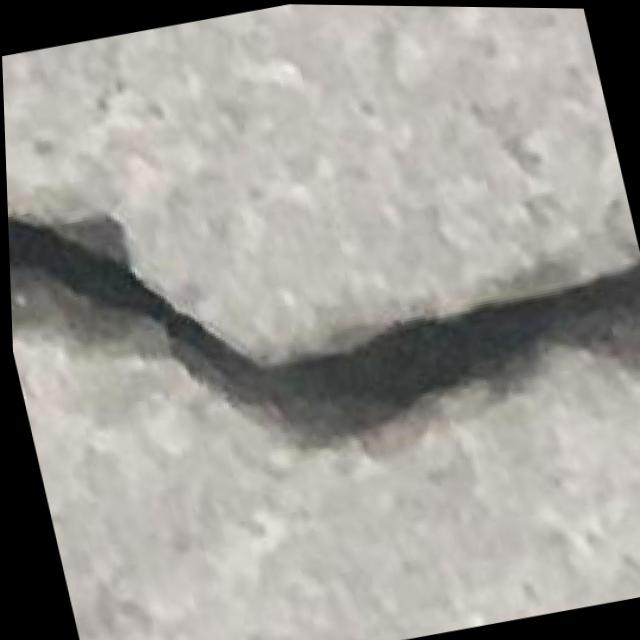Crack: (3, 100, 640, 536)
